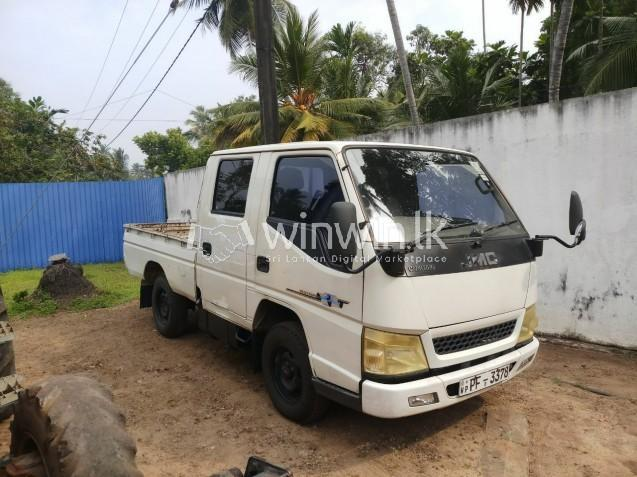truck: (121, 139, 587, 428)
